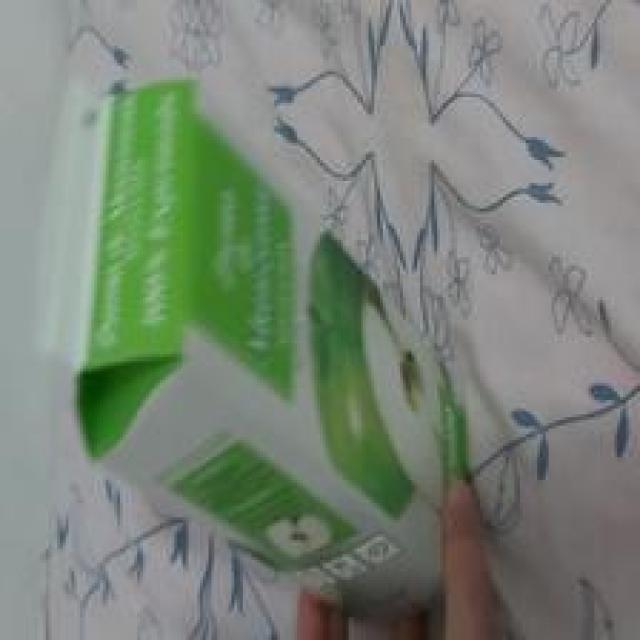Carton: (23, 37, 476, 618)
